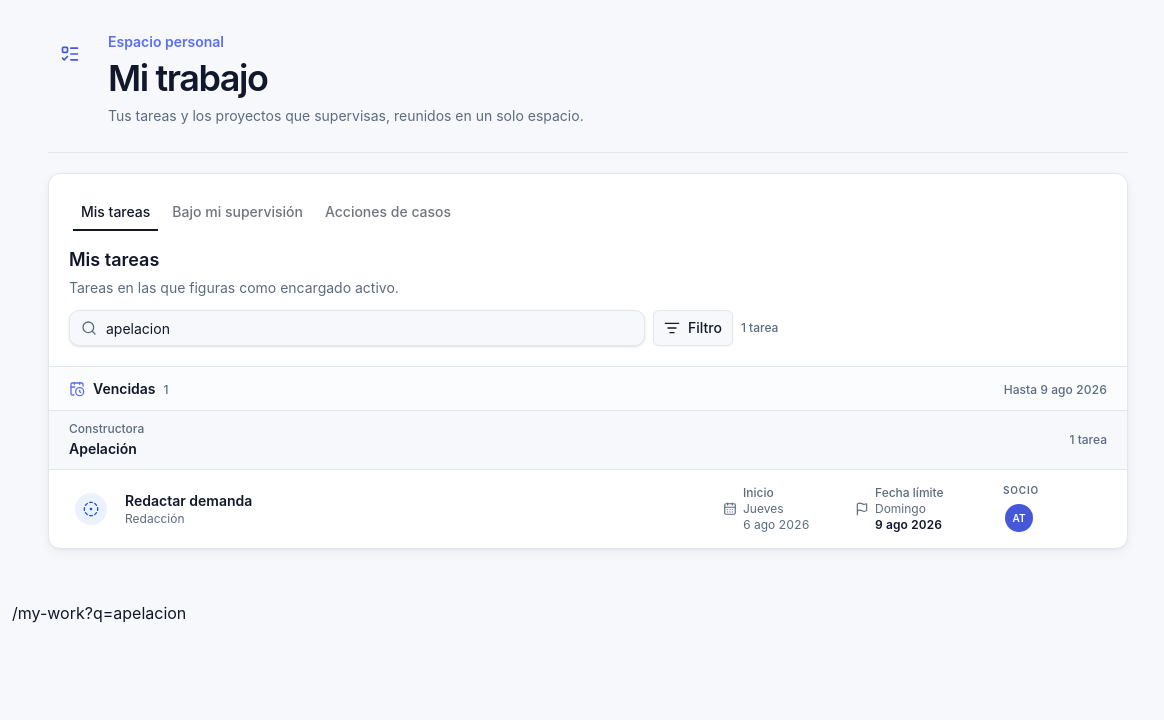
Test: MyWorkPage › switches to supervision in the URL and expands a compact project row
Press the mouse on the tab "Bajo mi supervisión": (238, 212) [163,198,312,226]
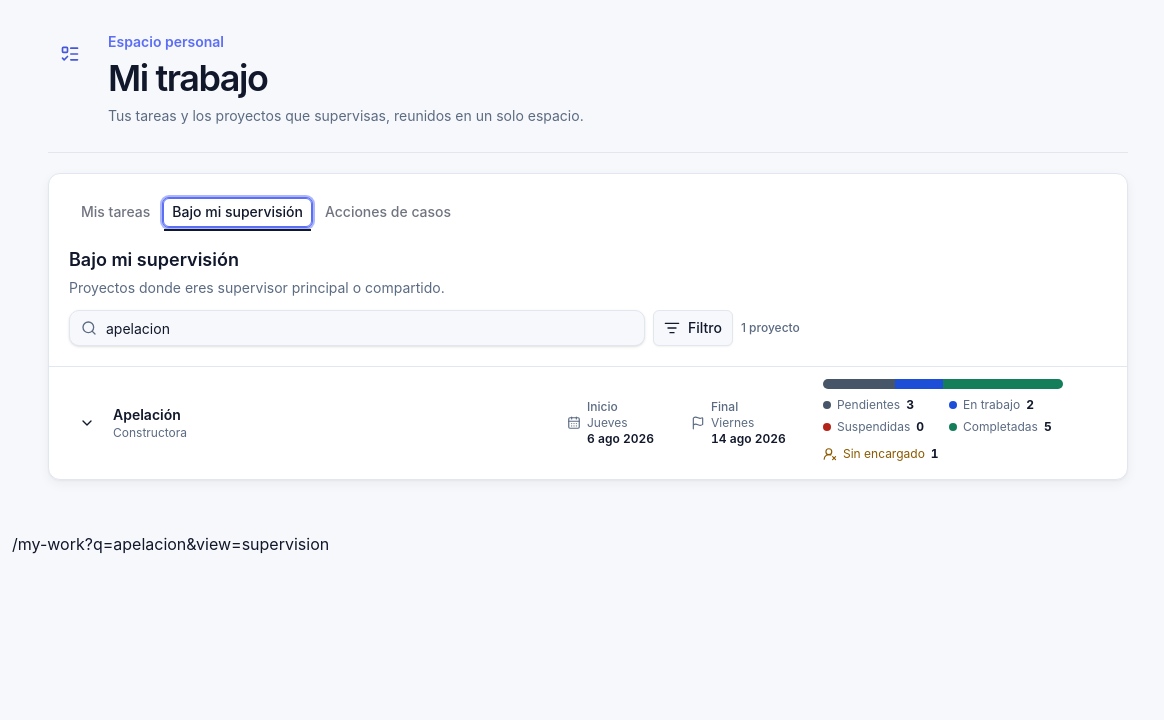
Expected: the text named "Ruta actual" reads "/my-work?q=apelacion&view=supervision", [12,534,329,554]
Expected: the heading "Bajo mi supervisión" is shown, [69,249,239,270]
Expected: the text "1 proyecto" is shown, [741,320,800,336]
Click the button named "Ver tareas de Apelación": click(87, 423) [69,405,105,441]
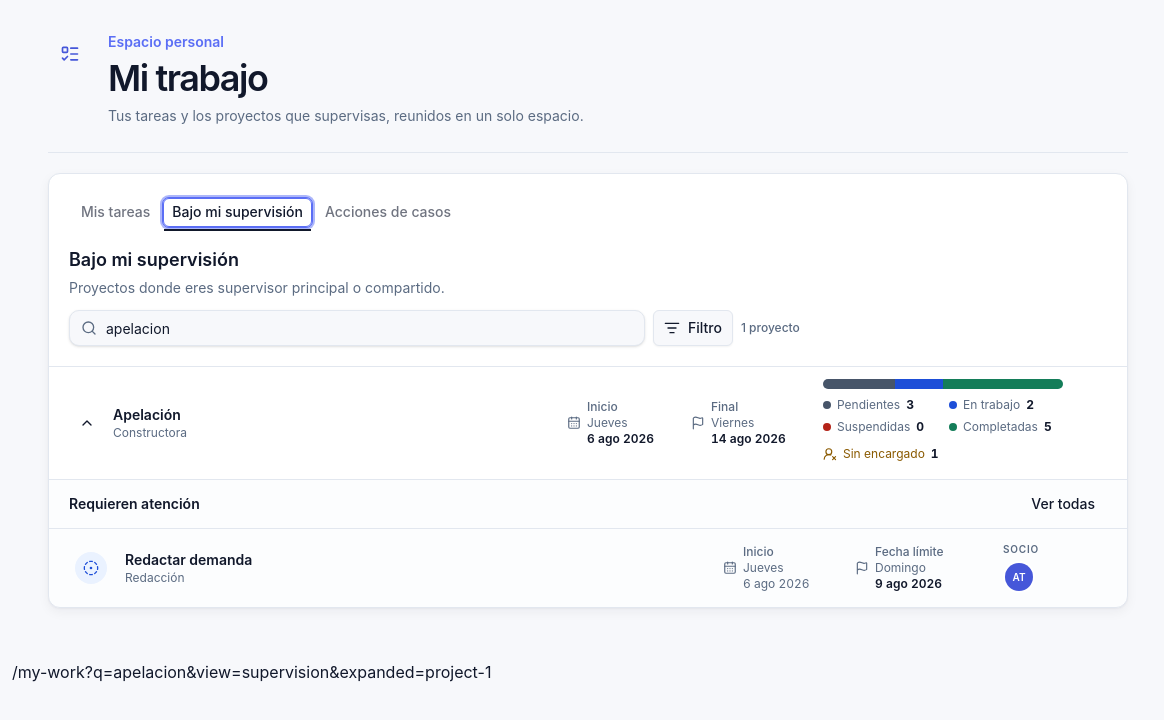
Expected: the text "Pendientes" shows "3", [906,397,914,412]
Expected: the heading "Requieren atención" is shown, [69,494,200,514]
Expected: the text "Constructora" is shown once, [113,425,187,441]
